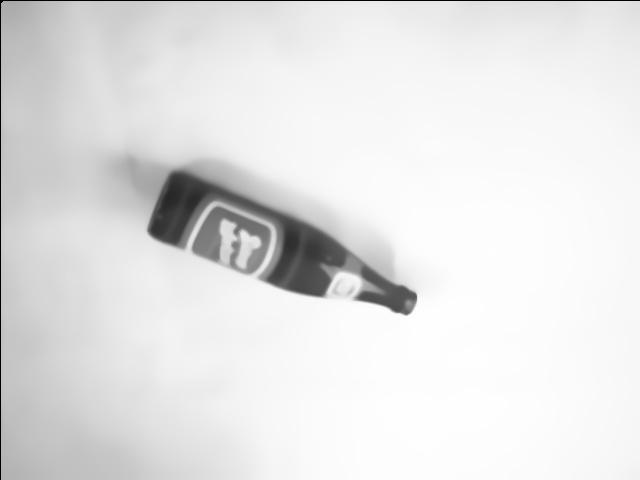Glass: (138, 163, 418, 316)
